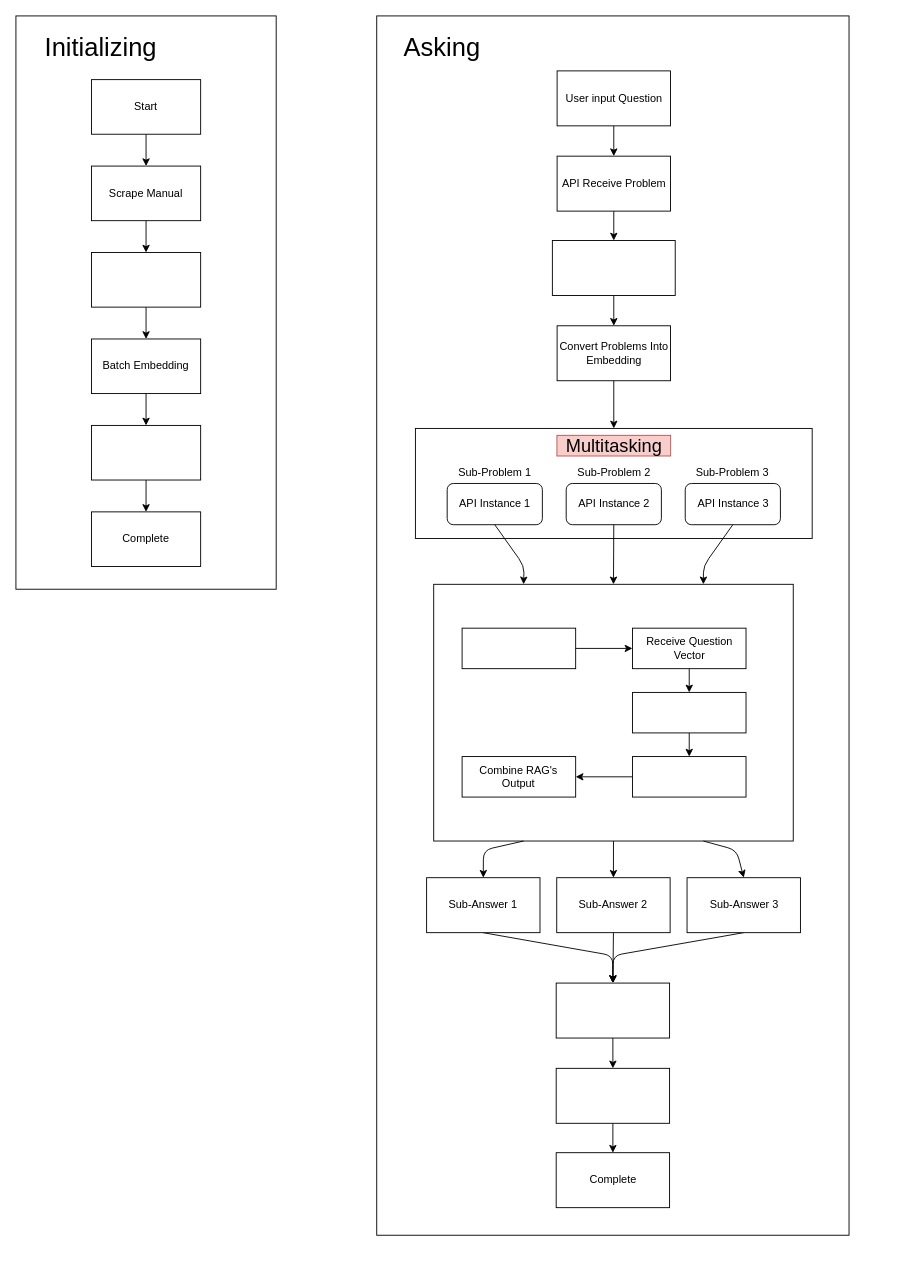
The diagram is 904 pixels wide and 1269 high, and some of its shapes have lost their labels. Here are the shapes that lost their labels. From the top down, the centre of each, then its label:
the point at 146,279: Split Text
the point at 613,267: Devide Question Into Several Sub-questions
the point at 146,452: Store Embeddings into ChromaDB
the point at 518,648: RAG System Searching
the point at 689,712: Vector Similarity Comparing
the point at 689,776: Return Several Chunks
the point at 612,1010: LLM Summarize Solutions
the point at 612,1095: Return Final Answer To User
